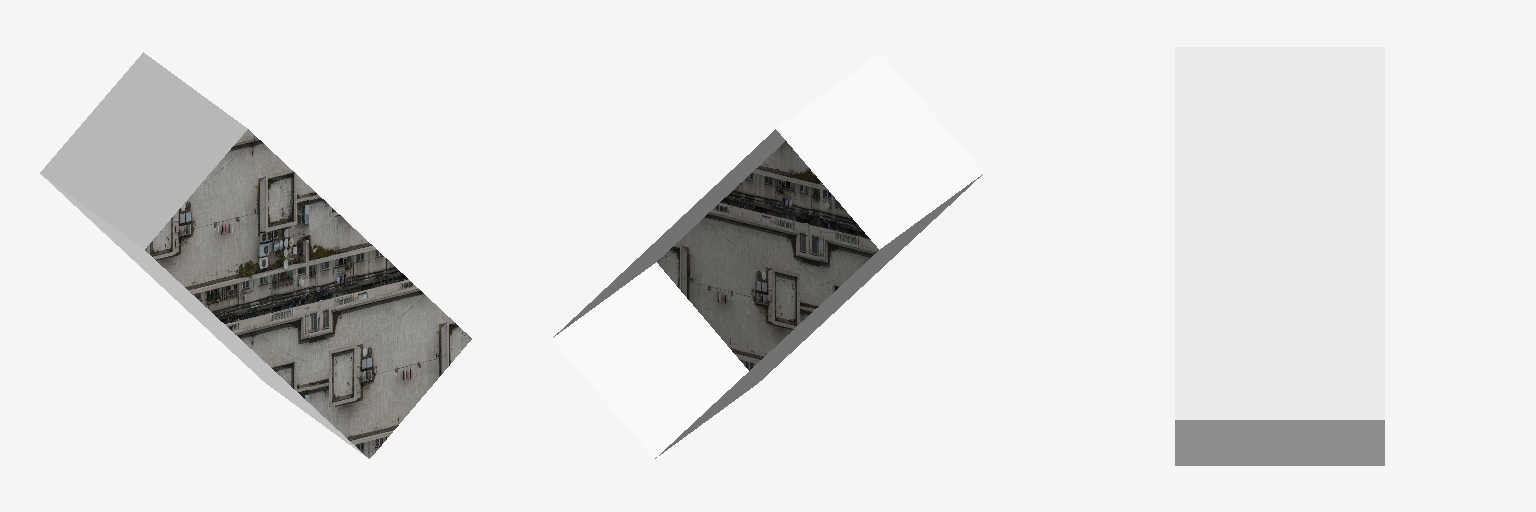
3 renders of one model, left to right at view 1: azimuth 30°, elevation 25°; view 2: azimuth 150°, elevation 25°; view 3: azimuth 270°, elevation 25°, orthographic.
Parts seen in each view (by area): view 1: Building; view 2: Building; view 3: Building.
Part boxes in pixels (x1,y1,x2,y2): Building: (40, 52, 471, 458); Building: (552, 52, 983, 458); Building: (1175, 47, 1384, 465).
Size of the model in its own units: 48.78 by 51.22 by 27.
2 materials, 1 textured.